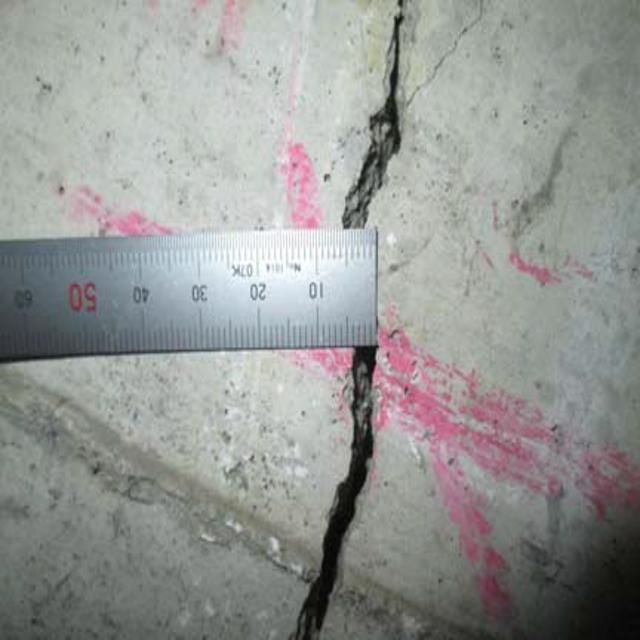crack: (294, 353, 400, 640), (328, 2, 413, 225)
